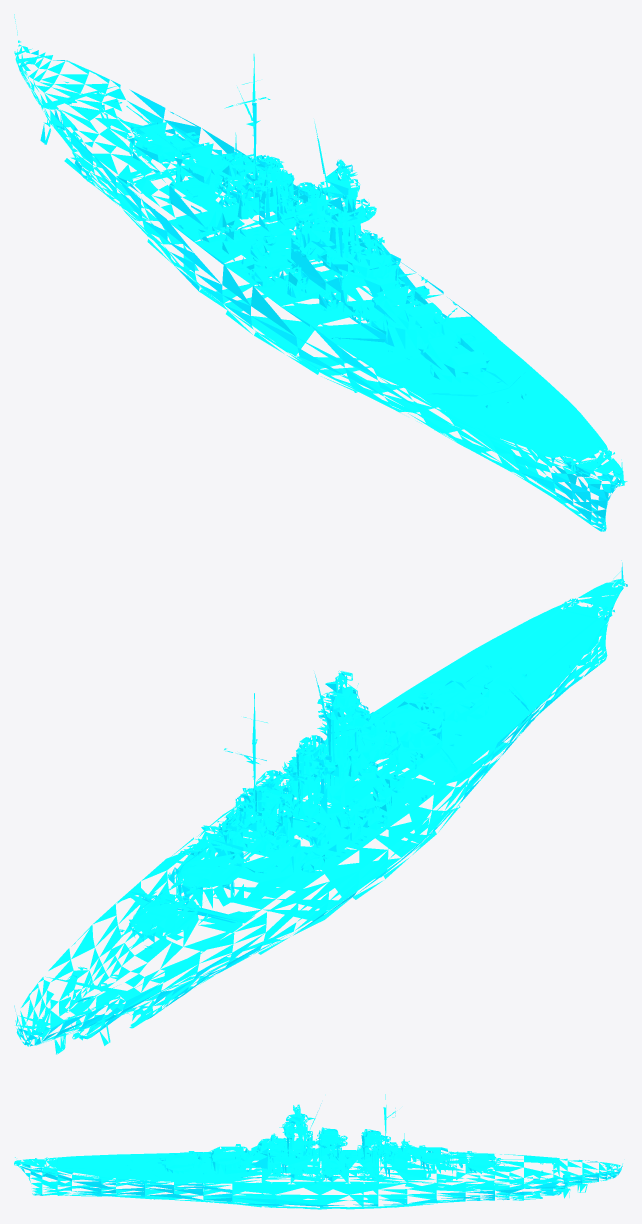
File: Preussen.glb
The picture shows the model from 3 angles, top to bottom: view 1: azimuth 30°, elevation 25°; view 2: azimuth 150°, elevation 25°; view 3: azimuth 270°, elevation 25°; orthographic projection. The views are drawn at different scales.
Bounding box in the file's own units: 2.73 × 4.22 × 20.95.
